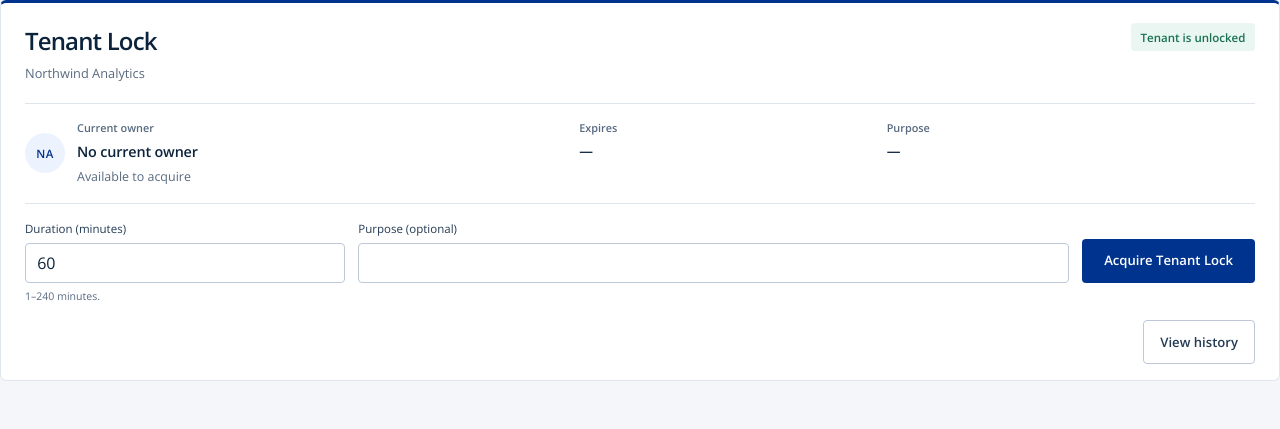
Scenario: Tenant Lock acquisition › maps a stable tenant_locked code to a bounded acquisition reason
Step 1. Click the button "Acquire Tenant Lock" → [1169, 261], box [1082,239,1255,283]
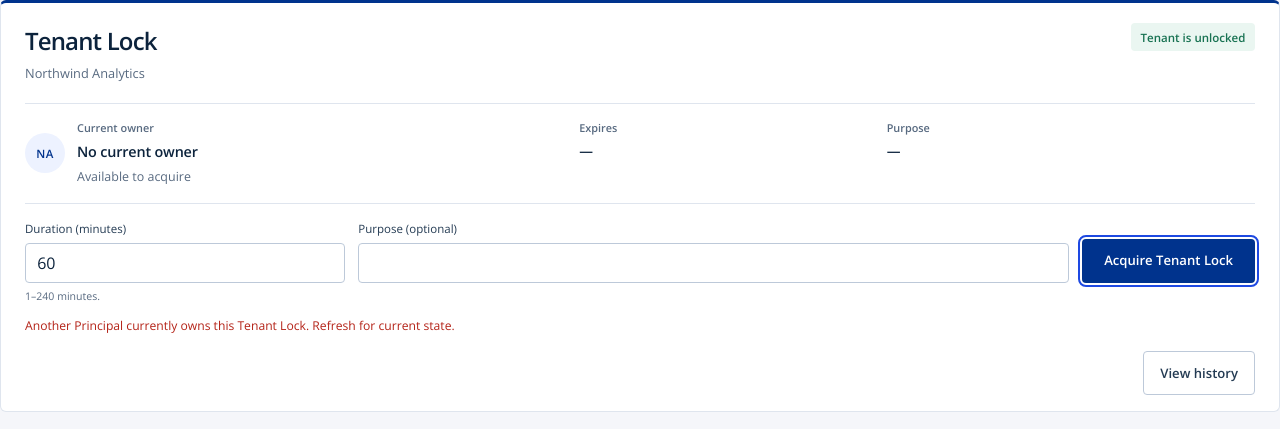
Expected: the message reads "Another Principal currently owns this Tenant Lock. Refresh for current state.", [25,317,455,334]
